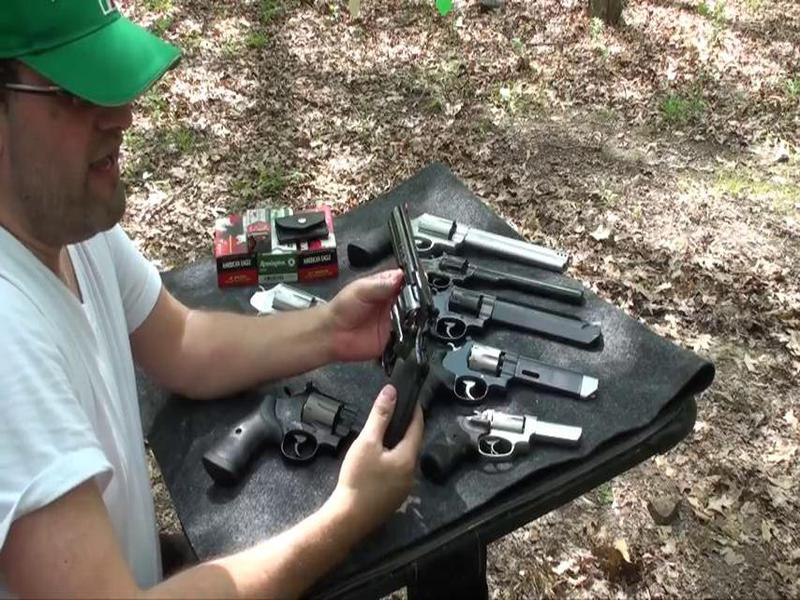Revolver: (342, 209, 467, 444)
